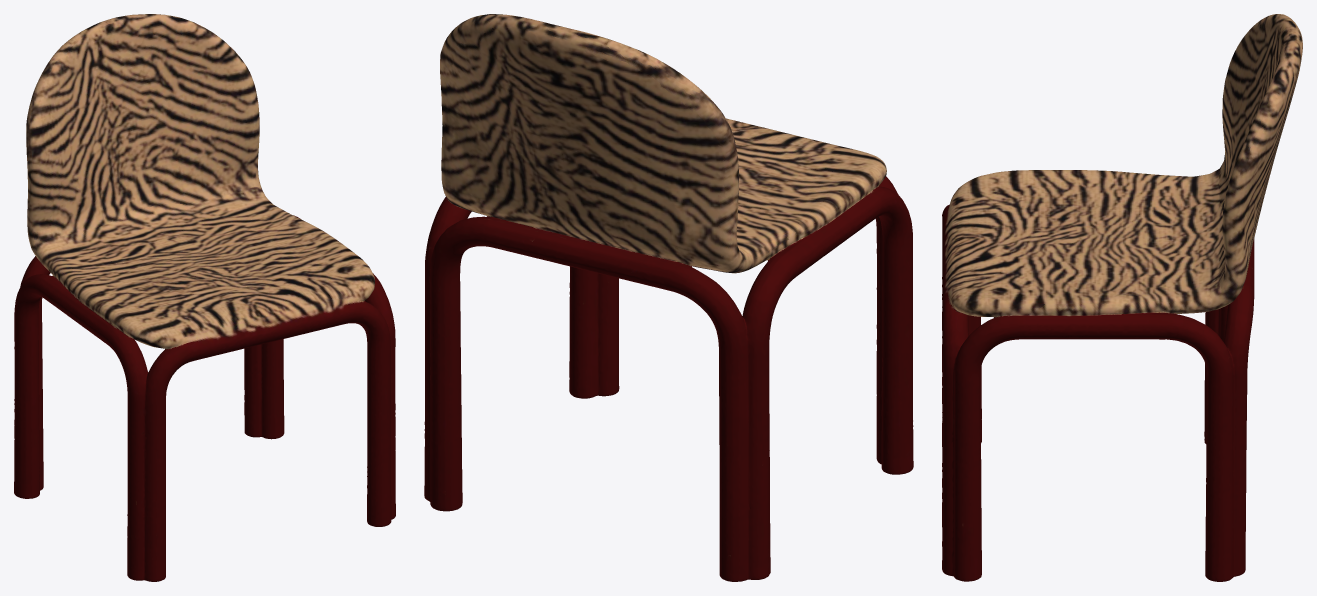
File: Modern Armless Side Chair with Tiger Print Upholstery [4Htx8z].glb
3 renders of one model, left to right at view 1: azimuth 30°, elevation 25°; view 2: azimuth 150°, elevation 25°; view 3: azimuth 270°, elevation 25°, orthographic. The views are drawn at different scales.
Parts seen in each view (by area): view 1: world; view 2: world; view 3: world.
Boxes of the visible parts, <box> form: world: <box>14,14,395,581</box>; world: <box>424,14,913,581</box>; world: <box>942,14,1302,581</box>.
Bounding box in the file's own units: 0.6643 × 1 × 0.6922.
Materials: 1 (1 with a texture image).
